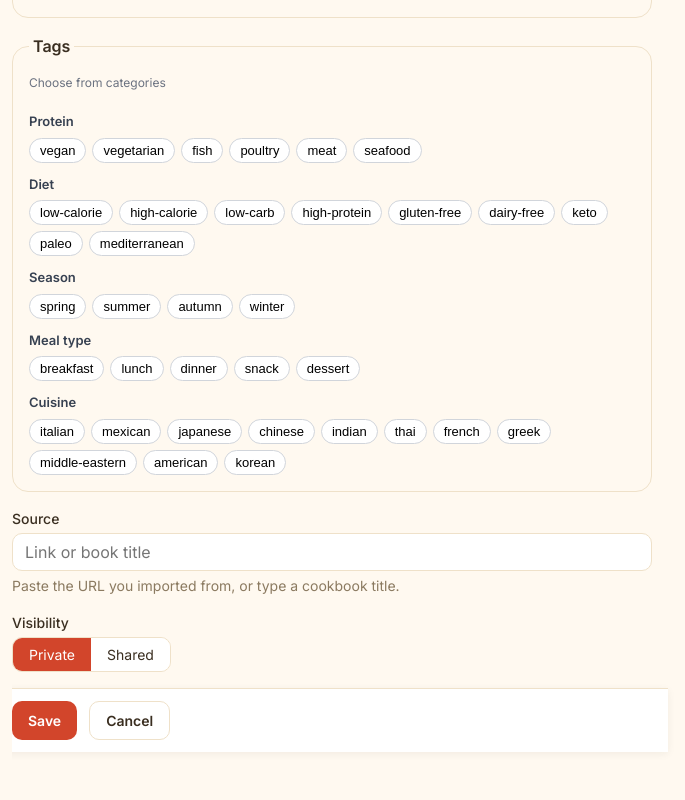
Scenario: RecipeForm › recipe source › shows the detected type in the hint as the user types
(page scrolled)
Type "https://foo.test" into the field with test id "source-input" at (332, 552), box [12, 532, 652, 570]
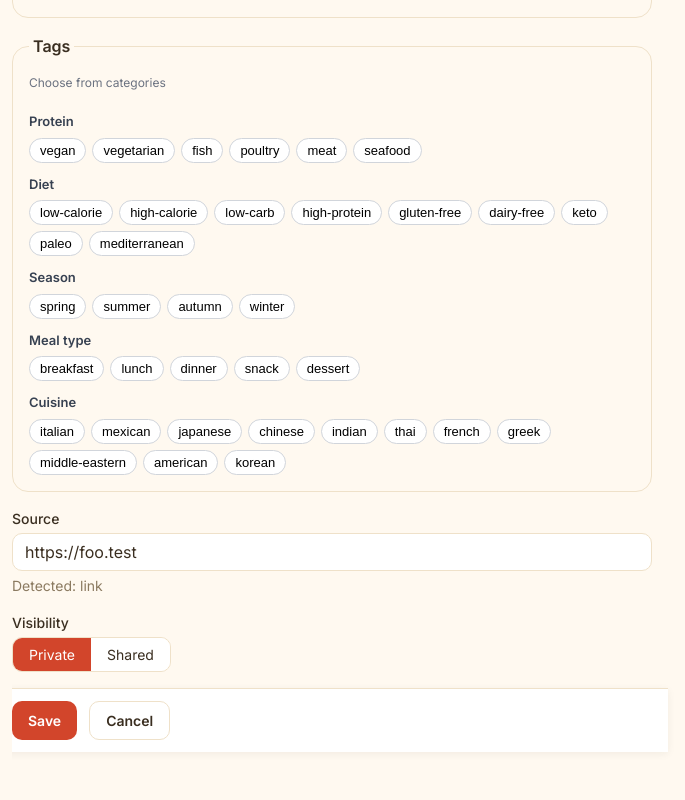
Result: the text with test id "source-hint" shows "link" at [12, 576, 103, 594]
Replace the text in the field with test id "source-input" with "My Cookbook" at (332, 552), box [12, 532, 652, 570]
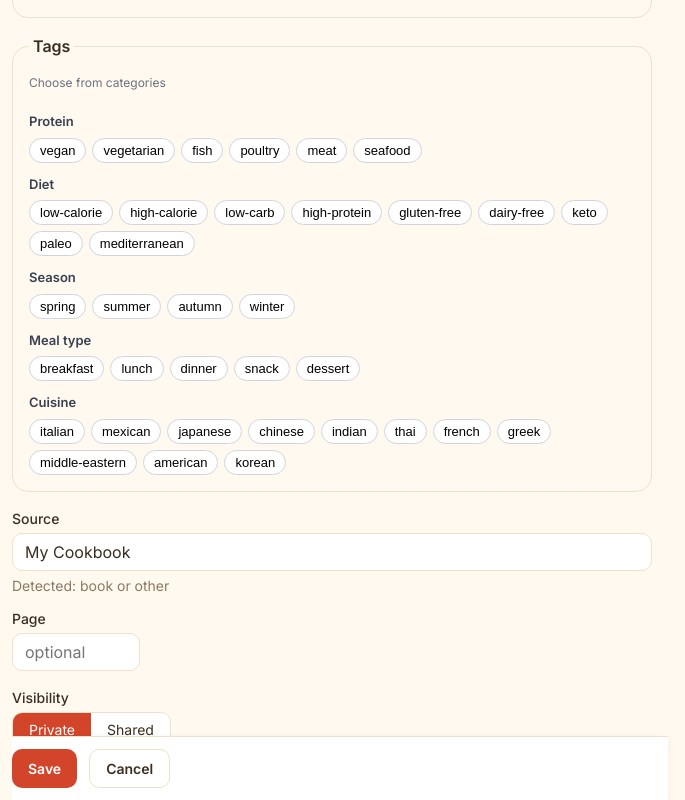
Result: the text with test id "source-hint" shows "book" at [12, 576, 169, 594]
